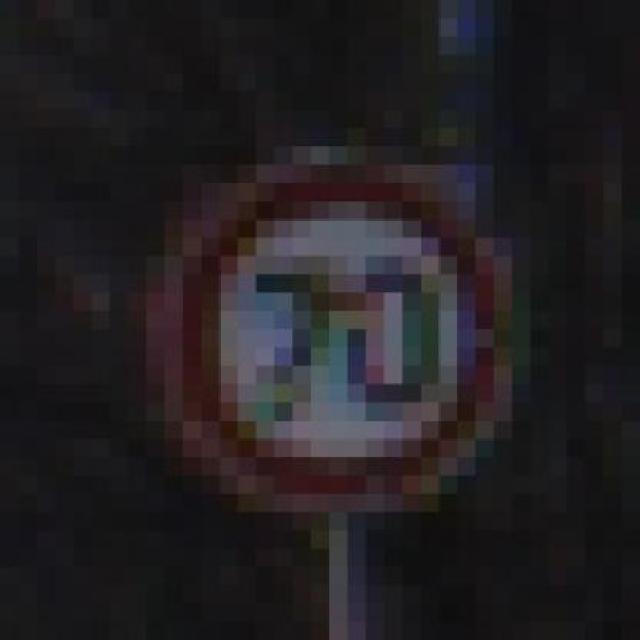forb_speed_over_70: (170, 162, 508, 500)
